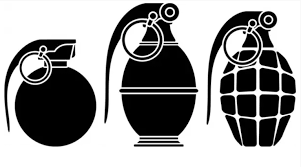e1: (104, 3, 198, 148), (205, 10, 296, 146), (4, 38, 96, 146)
